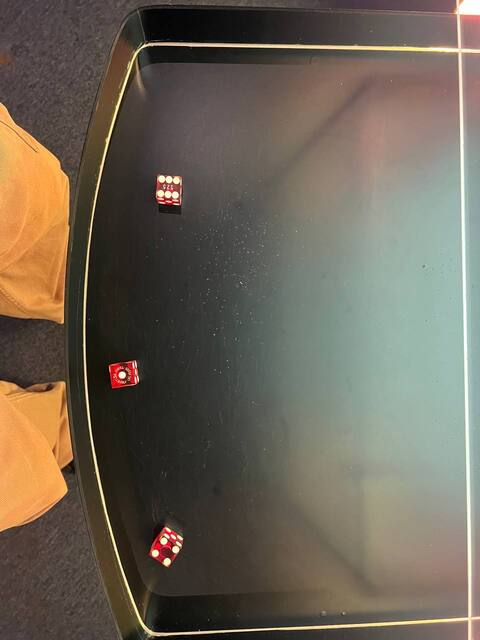four: (146, 534, 181, 571)
one: (106, 360, 137, 392)
six: (152, 172, 183, 203)
